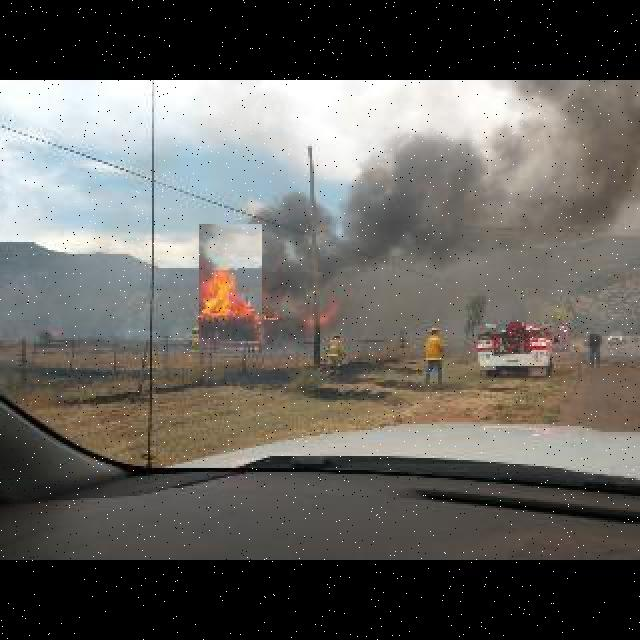fire: (199, 224, 262, 353)
